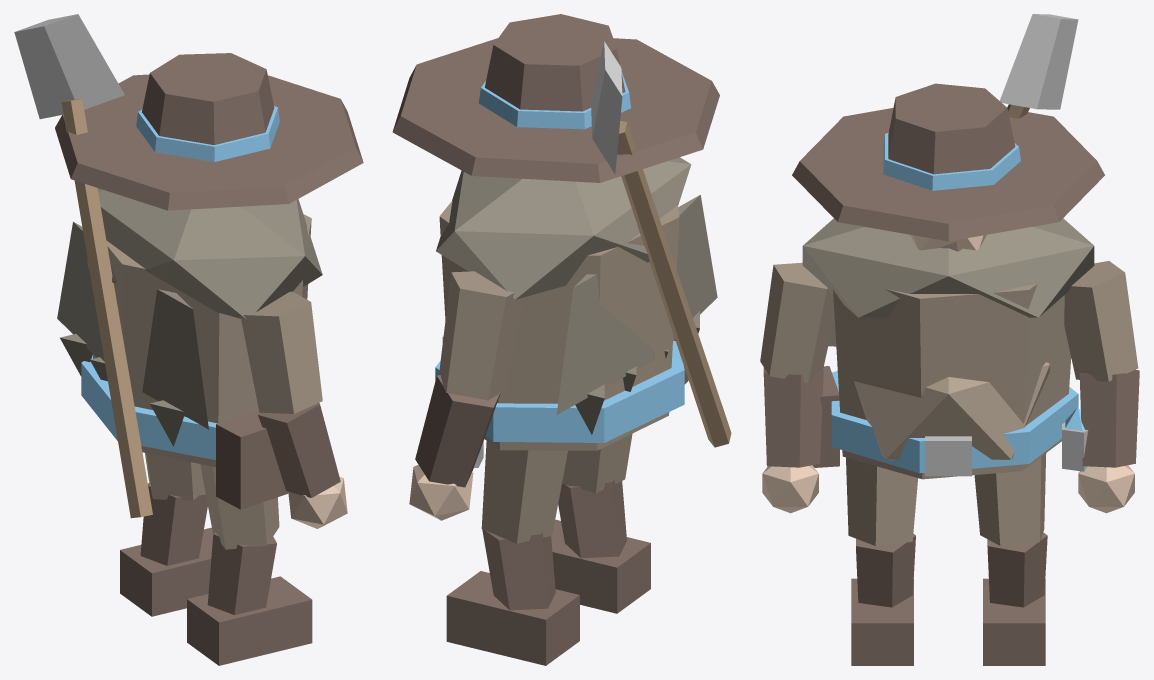
Rendered from odo.glb.
3 views of the same model, side by side, from view 1: azimuth 30°, elevation 25°; view 2: azimuth 150°, elevation 25°; view 3: azimuth 270°, elevation 25° (orthographic). The views are drawn at different scales.
Parts seen in each view (by area): view 1: torso, cabeza, piernaD, brazoD, capa1, piernaI; view 2: torso, cabeza, piernaI, brazoI, piernaD, capa1; view 3: torso, cabeza, brazoD, brazoI, piernaD, piernaI.
Part boxes in pixels (x1,y1,x2,y2): torso: (14,14,322,518); cabeza: (55,53,363,210); piernaD: (187,464,312,665); brazoD: (240,291,347,528); capa1: (57,221,208,446); piernaI: (120,453,213,616); torso: (435,41,731,467); cabeza: (392,14,719,182); piernaI: (446,441,579,665); brazoI: (409,271,523,520); piernaD: (551,433,650,613); capa1: (556,195,717,434); torso: (802,14,1094,479); cabeza: (792,83,1104,251); brazoD: (760,262,834,513); brazoI: (1064,261,1139,513); piernaD: (846,457,917,665); piernaI: (974,453,1047,665).
Bounding box in the file's own units: 0.8 × 1.65 × 0.9692.
